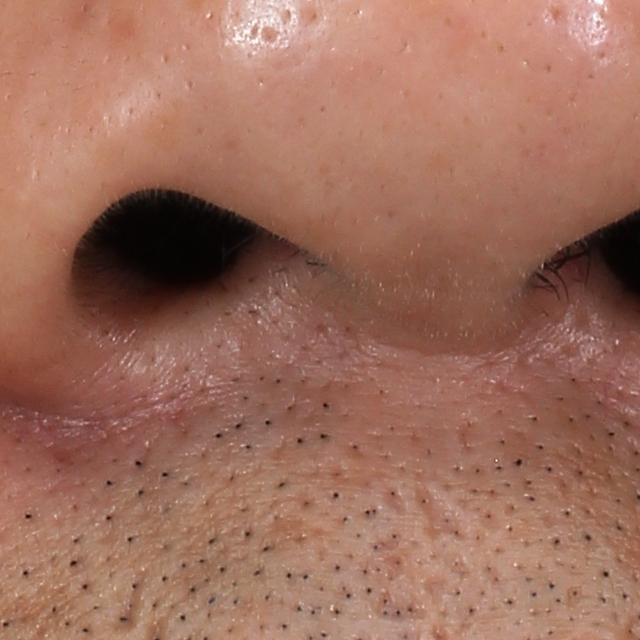atrophic_scar: (407, 463, 471, 547), (259, 512, 340, 550), (371, 586, 439, 627), (111, 566, 150, 636), (420, 574, 461, 612)
